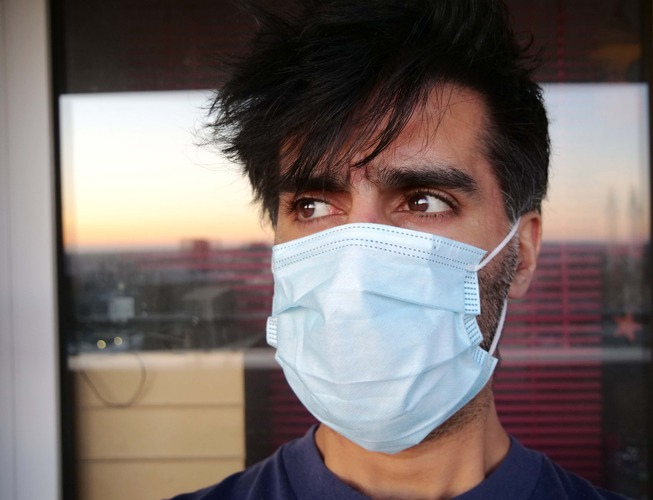with_mask: (277, 70, 502, 403)
